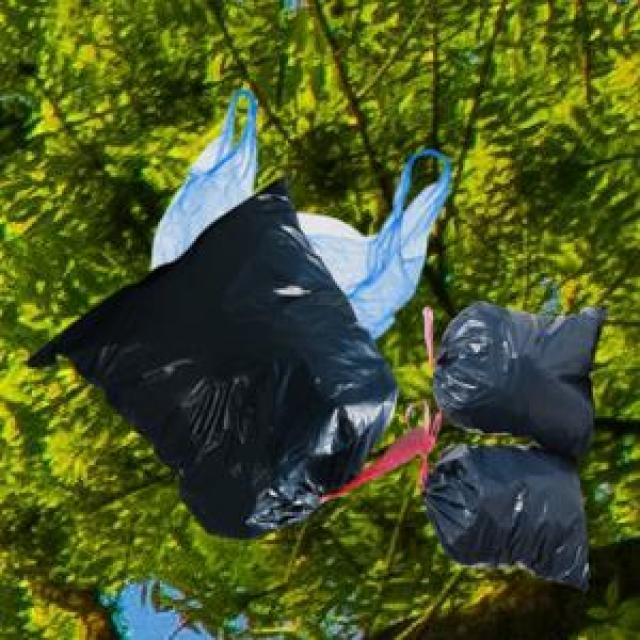miscellaneous trash: (24, 171, 431, 533), (418, 297, 602, 587)
